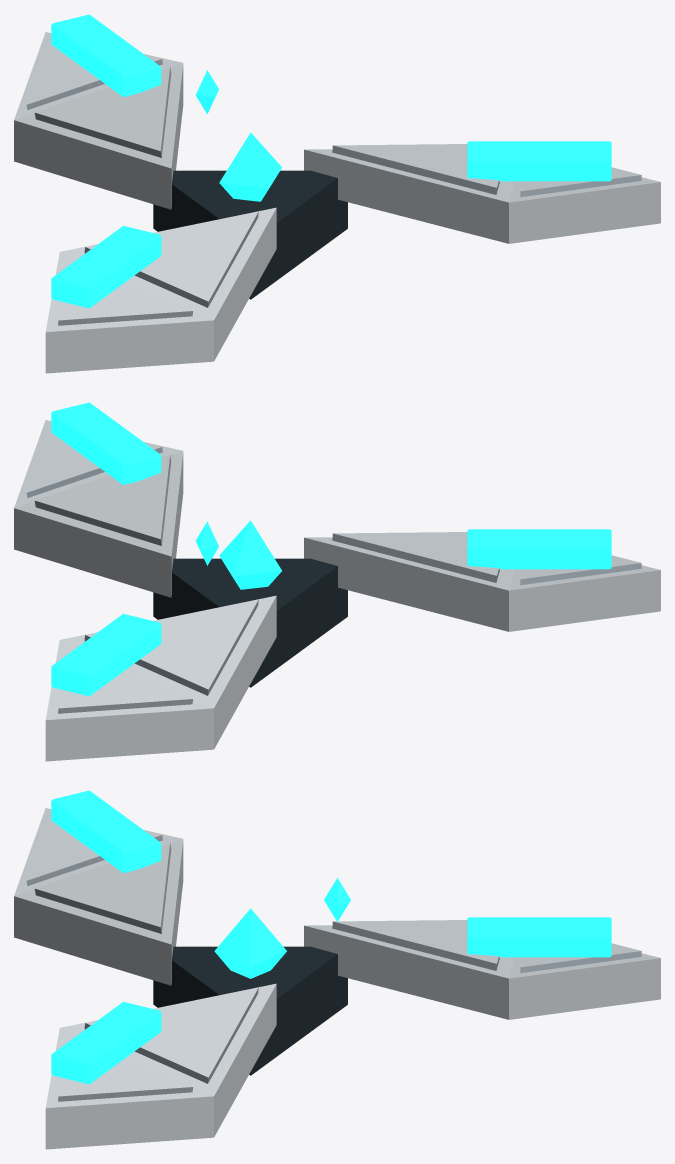
The model's file is 05_abwehrplattform.glb.
The picture shows the model from 3 angles, top to bottom: view 1: azimuth 30°, elevation 25°; view 2: azimuth 150°, elevation 25°; view 3: azimuth 270°, elevation 25°; orthographic projection.
Visible parts, largest first — view 1: Hull, FX_status_beacon; view 2: Hull, FX_status_beacon; view 3: Hull, FX_status_beacon.
Part boxes in pixels (<box>): Hull: <box>14,14,660,373</box>; FX_status_beacon: <box>195,70,218,114</box>; Hull: <box>14,402,660,761</box>; FX_status_beacon: <box>195,521,218,565</box>; Hull: <box>14,790,660,1149</box>; FX_status_beacon: <box>324,878,350,921</box>.
Size of the model in its own units: 9 by 2.11 by 8.19.
